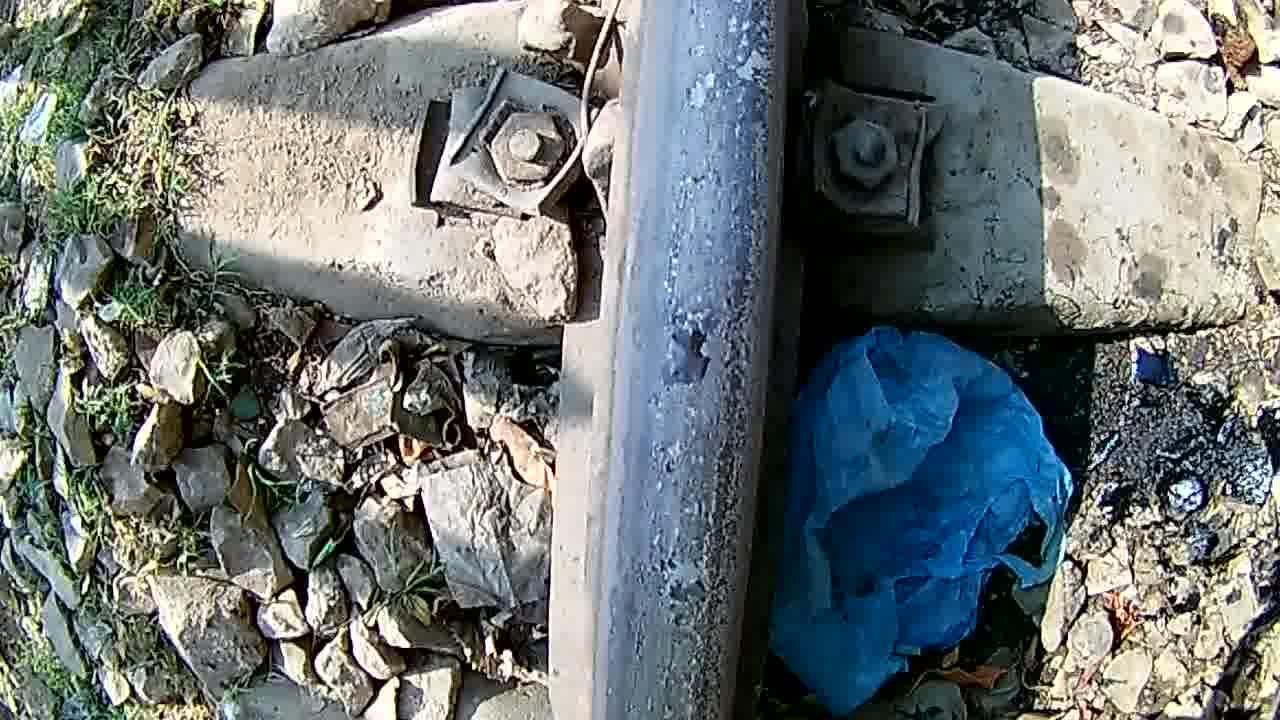crack: (626, 0, 786, 720)
